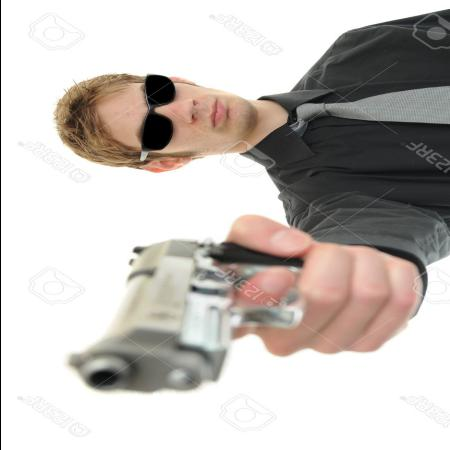Pistol: (64, 242, 429, 389)
